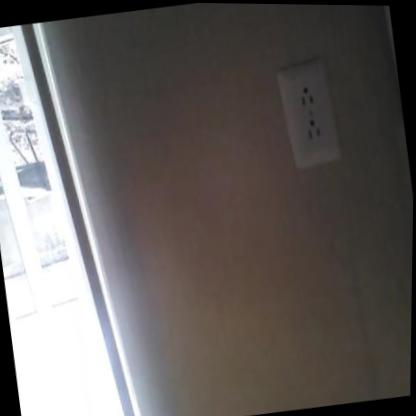OUTLET: (275, 62, 344, 168)
